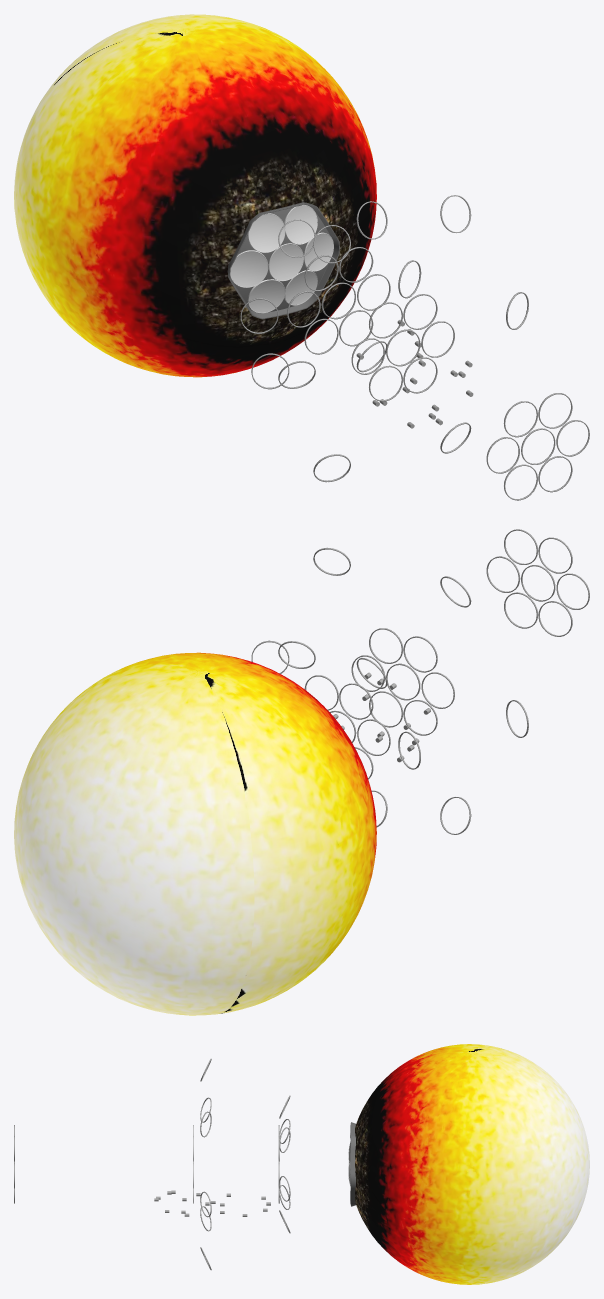
The picture shows the model from 3 angles, top to bottom: view 1: azimuth 30°, elevation 25°; view 2: azimuth 150°, elevation 25°; view 3: azimuth 270°, elevation 25°; orthographic projection. The views are drawn at different scales.
Parts seen in each view (by area): view 1: PlanetShip_PlanetSurface_0, EntryRings_GuideMaterial_0, Mirrors_MIrror_0, AtmosphereWall_AtmosphereWall_0, Mirrors_Structure_0, Habitats_Habitats_0; view 2: PlanetShip_PlanetSurface_0, EntryRings_GuideMaterial_0; view 3: PlanetShip_PlanetSurface_0, EntryRings_GuideMaterial_0, AtmosphereWall_AtmosphereWall_0, Habitats_Habitats_0.
Boxes of the visible parts, left/top/right/bottom form: PlanetShip_PlanetSurface_0: left=14, top=14, right=376, bottom=377; EntryRings_GuideMaterial_0: left=240, top=195, right=589, bottom=500; Mirrors_MIrror_0: left=230, top=205, right=333, bottom=312; AtmosphereWall_AtmosphereWall_0: left=227, top=202, right=339, bottom=319; Mirrors_Structure_0: left=230, top=204, right=333, bottom=313; Habitats_Habitats_0: left=356, top=319, right=473, bottom=428; PlanetShip_PlanetSurface_0: left=14, top=652, right=376, bottom=1015; EntryRings_GuideMaterial_0: left=251, top=529, right=589, bottom=834; PlanetShip_PlanetSurface_0: left=355, top=1044, right=589, bottom=1284; EntryRings_GuideMaterial_0: left=14, top=1058, right=290, bottom=1270; AtmosphereWall_AtmosphereWall_0: left=349, top=1122, right=355, bottom=1206; Habitats_Habitats_0: left=154, top=1190, right=270, bottom=1216.
Size of what is drawn, in the model's own units: 10000 by 10000 by 23911.
6 materials, 1 textured.
